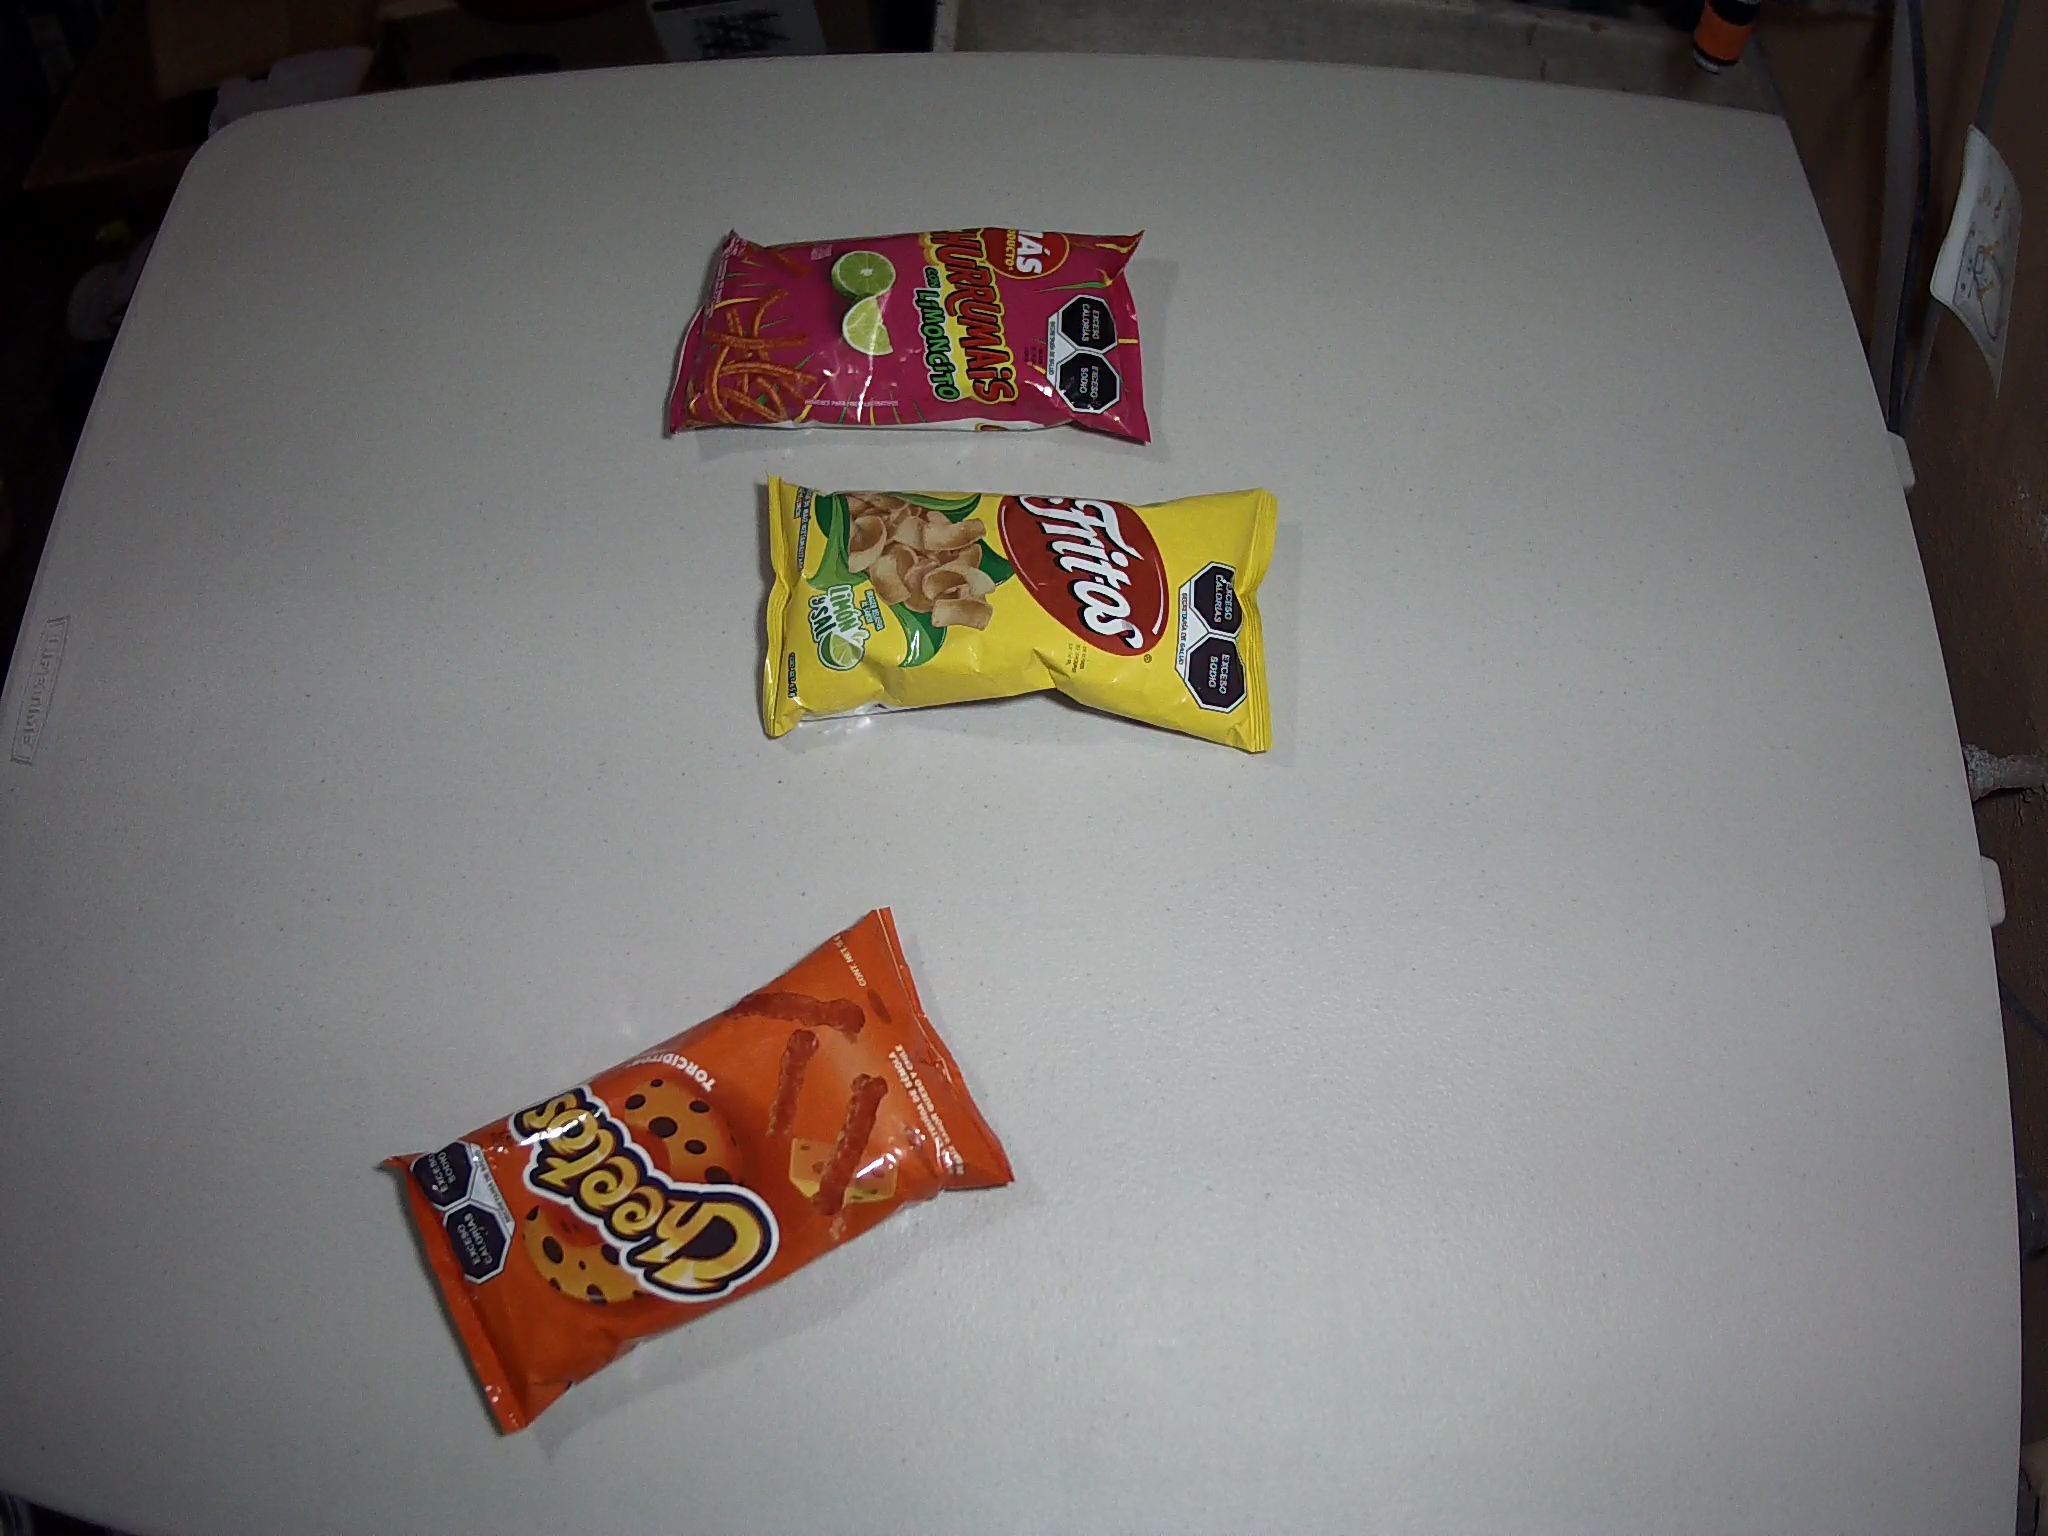CheetosTorciditos_55_F: (381, 907, 1018, 1439)
Churrumais_70_F: (661, 227, 1155, 440)
FritosSalLimon_65_F: (760, 474, 1280, 755)
